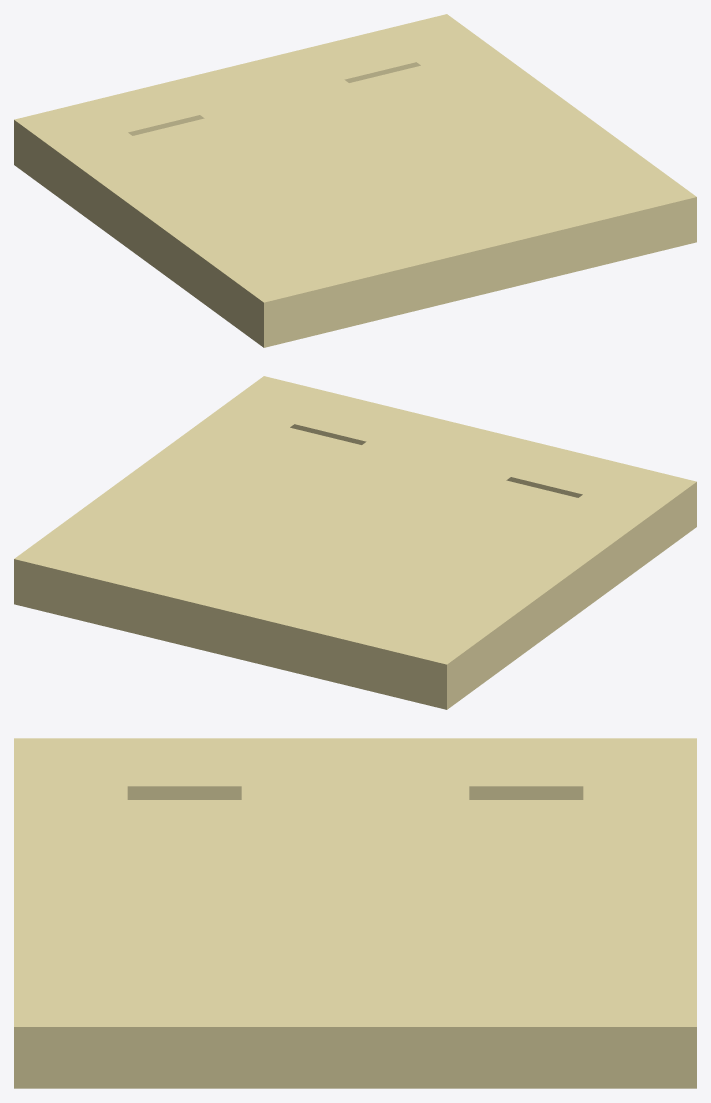
The model's file is obstacle.obj.
3 views of the same model, one above another, from view 1: azimuth 30°, elevation 25°; view 2: azimuth 150°, elevation 25°; view 3: azimuth 270°, elevation 25° (orthographic). The views are drawn at different scales.
Parts seen in each view (by area): view 1: default; view 2: default; view 3: default.
Part boxes in pixels (bbox=[...]): default: bbox=[14, 14, 696, 347]; default: bbox=[14, 376, 696, 709]; default: bbox=[14, 738, 696, 1088].
Size of the model in its own units: 5 by 0.5 by 5.
1 material, 1 textured.
